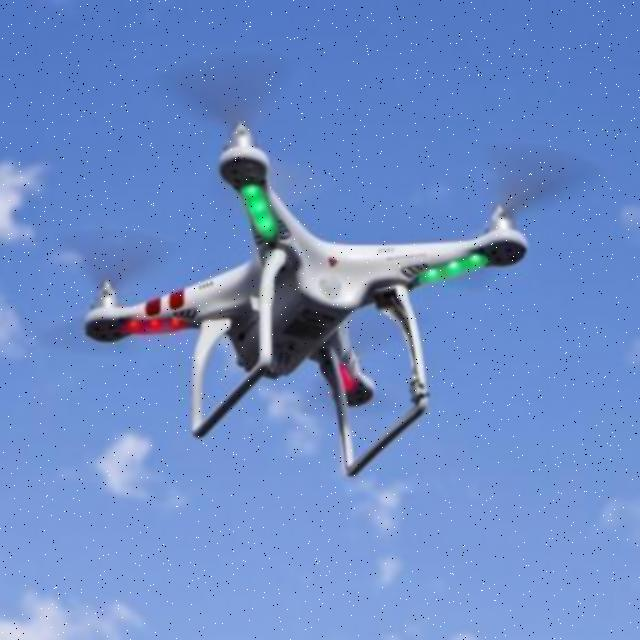UAV: (82, 117, 530, 479)
